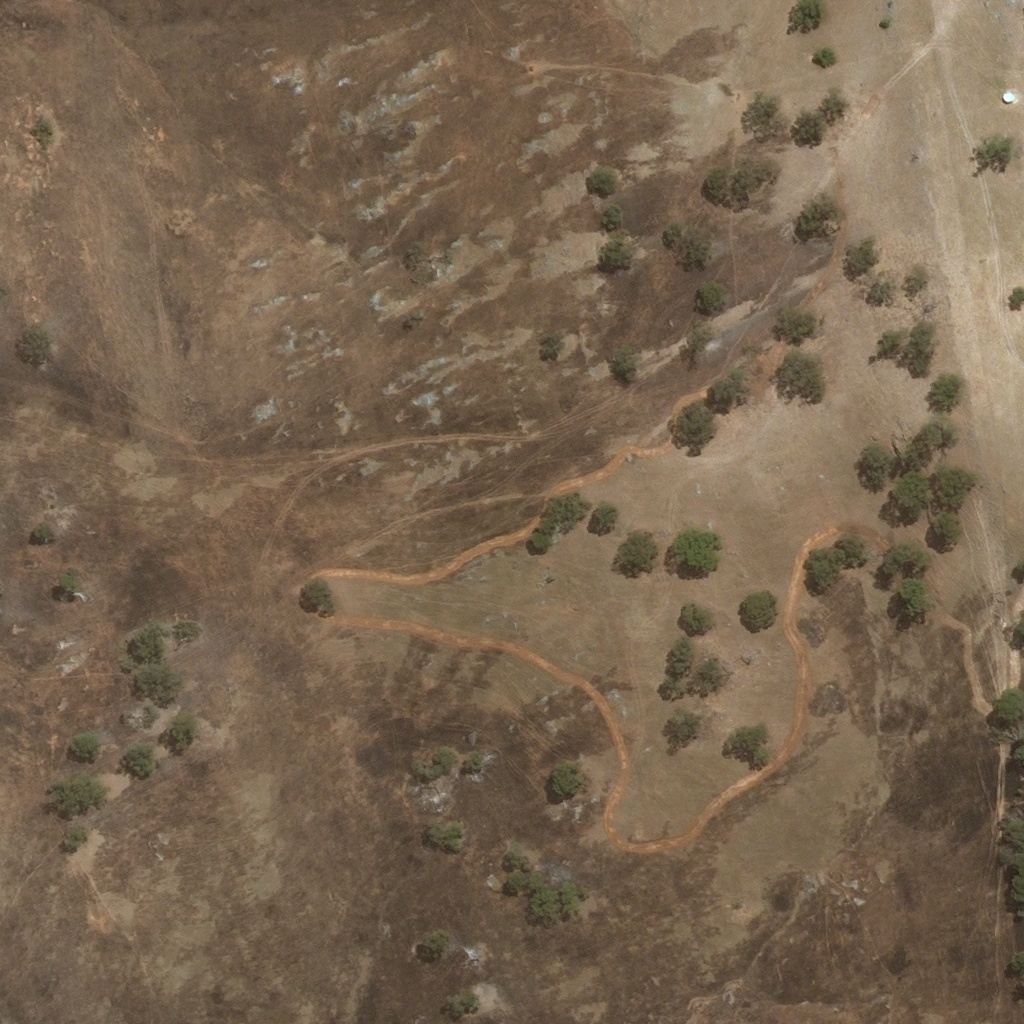0 no-damage: (1002, 91, 1013, 102)
